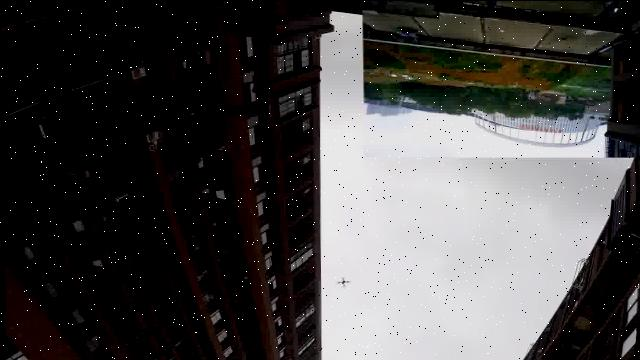drone: (331, 276, 351, 288)
